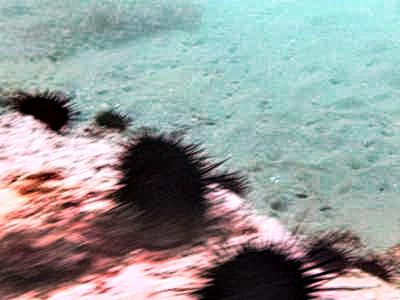urchin: (115, 134, 229, 229), (188, 241, 341, 295), (18, 89, 73, 130), (95, 111, 129, 129)
